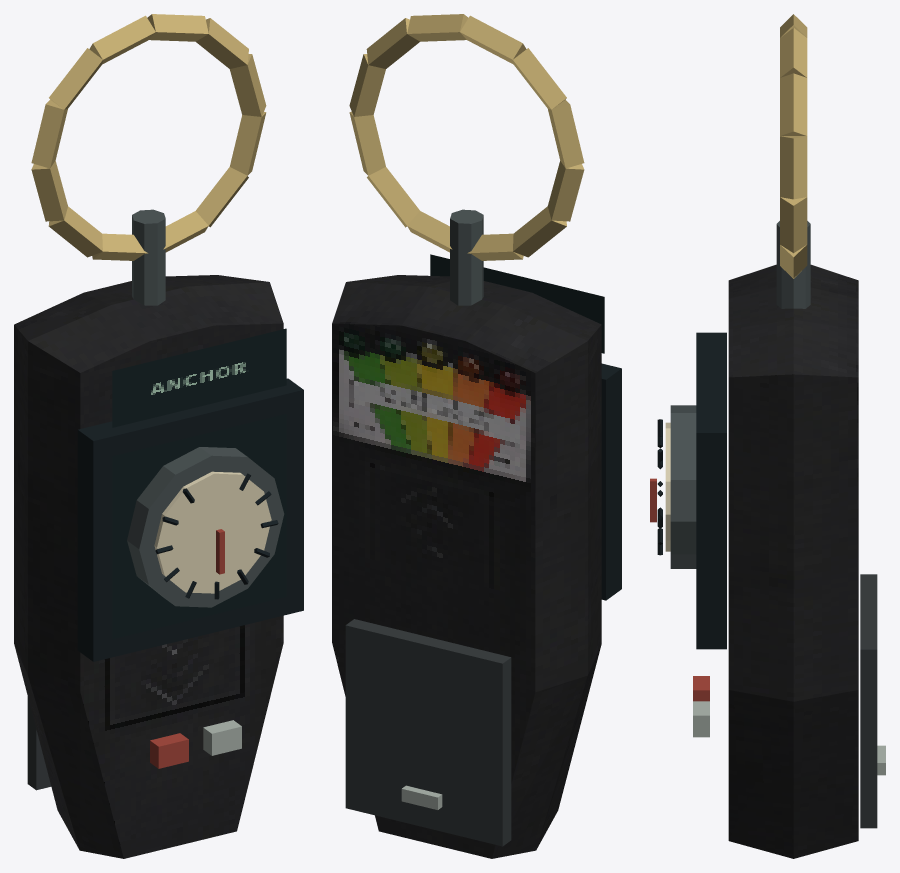
Rendered from blender_ritual_anchor_meter_1.glb.
3 renders of one model, left to right at view 1: azimuth 30°, elevation 25°; view 2: azimuth 150°, elevation 25°; view 3: azimuth 270°, elevation 25°, orthographic. The views are drawn at different scales.
Parts seen in each view (by area): view 1: blender_ritual_anchor_meter_1; view 2: blender_ritual_anchor_meter_1; view 3: blender_ritual_anchor_meter_1.
Part boxes in pixels (box(x1,y1,x2,y2)): blender_ritual_anchor_meter_1: box(14, 14, 303, 858); blender_ritual_anchor_meter_1: box(332, 14, 621, 858); blender_ritual_anchor_meter_1: box(650, 14, 885, 858).
Bounding box in the file's own units: 0.08 × 0.2589 × 0.069.
1 material, 1 textured.
